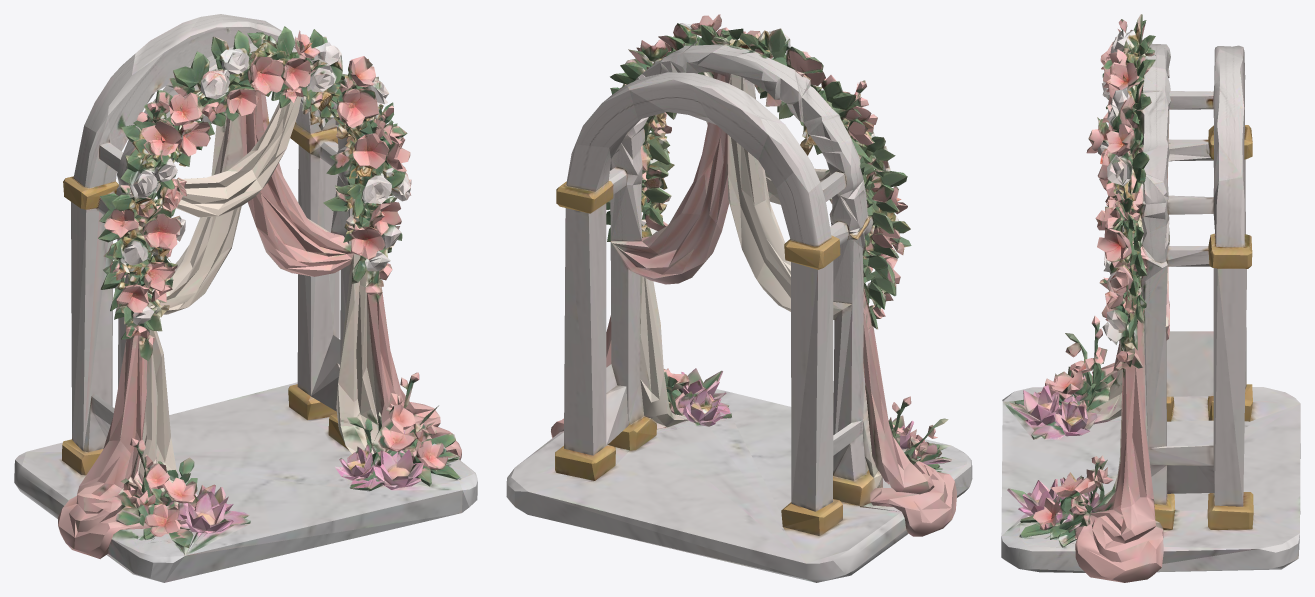
File: wh_flower_arch.fbx
3 renders of one model, left to right at view 1: azimuth 30°, elevation 25°; view 2: azimuth 150°, elevation 25°; view 3: azimuth 270°, elevation 25°, orthographic. The views are drawn at different scales.
Visible parts, largest first — view 1: wh_flower_arch; view 2: wh_flower_arch; view 3: wh_flower_arch.
Boxes of the visible parts, x1,y1,x2,y2 form: wh_flower_arch: (14, 14, 477, 582); wh_flower_arch: (506, 14, 972, 582); wh_flower_arch: (1001, 14, 1300, 582).
Size of the model in its own units: 3.77 by 4.4 by 2.59.
